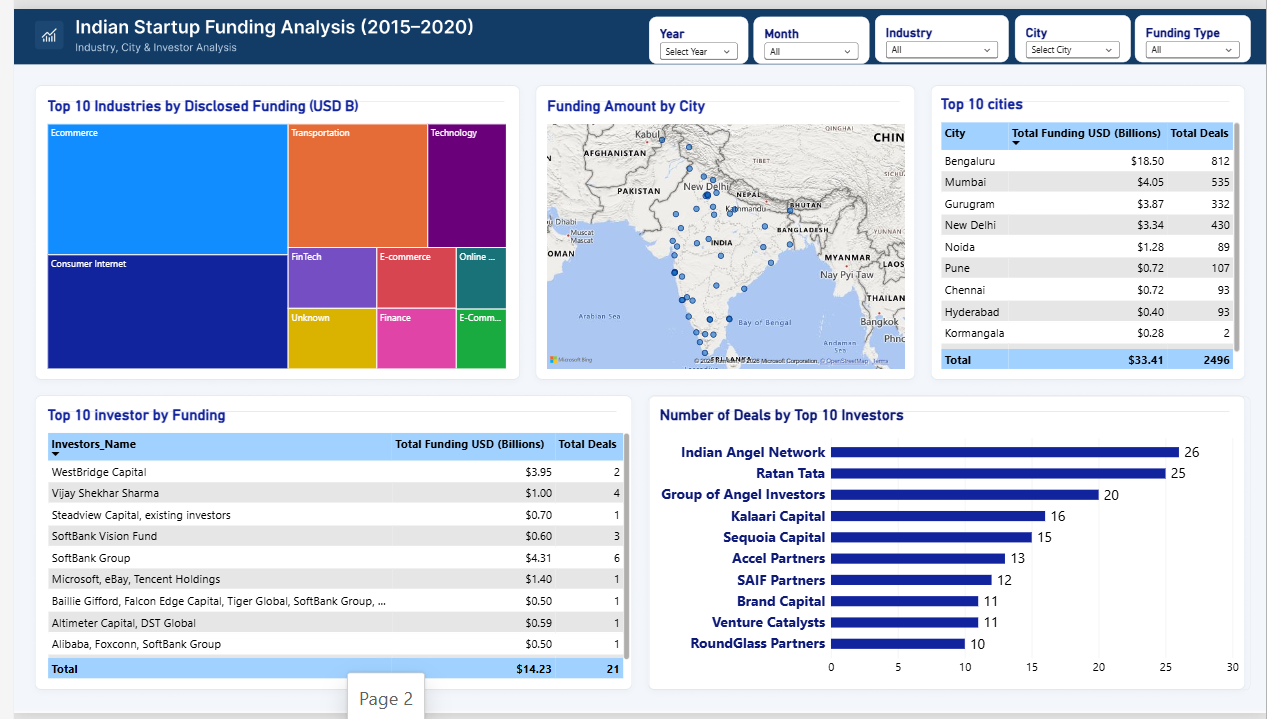

Layout of this report page (visuals, bound fields, positions):
{"tool":"powerbi","page":{"name":"Page 2","canvas":[1920,1080],"ordinal":1},"visuals":[{"type":"listSlicer","fields":{"Values":["Calendar.Month"]},"box":[1132.5,11.1,177.5,72.5],"z":0},{"type":"listSlicer","title":"Industry","fields":{"Values":["cleaned_dataset.Industry"]},"box":[1320,8.6,205,72.5],"z":1000},{"type":"listSlicer","title":"Funding Type","fields":{"Values":["cleaned_dataset.Investment_Type_Clean"]},"box":[1717.5,8.6,177.5,72.5],"z":2000},{"type":"listSlicer","fields":{"Values":["Calendar.Year"]},"box":[972.5,11.1,152.5,72.5],"z":3000},{"type":"listSlicer","title":"City","fields":{"Values":["cleaned_dataset.City"]},"box":[1535,8.6,177.5,72.5],"z":4000},{"type":"treemap","title":"Top 10 Industries by Disclosed Funding (USD B)","fields":{"Group":["cleaned_dataset.Industry"],"Values":["Calendar.Total Funding USD"]},"box":[35,120,735,447.5],"z":5000},{"type":"map","title":"Funding Amount by City","fields":{"Category":["cleaned_dataset.City"]},"box":[800,120,580,447.5],"z":6000},{"type":"tableEx","title":"Top 10 investor by Funding","fields":{"Values":["cleaned_dataset.Investors_Name","Calendar.Total Funding USD","Calendar.Total Deals"]},"box":[35.3,593.8,923.7,447.7],"z":7000},{"type":"tableEx","title":"Top 10 cities","fields":{"Values":["cleaned_dataset.City","Calendar.Total Funding USD","Calendar.Total Deals"]},"box":[1405,117.5,490,450],"z":8000},{"type":"barChart","title":"Number of Deals by Top 10 Investors","fields":{"Category":["cleaned_dataset.Investors_Name"],"Y":["Calendar.Total Deals"]},"box":[973.2,593.8,921.3,450.1],"z":9000}]}

Visuals, with their boxes on the page's 1920x1080 design canvas (x1, y1, x2, y2). These are canvas units, not pixel positions in the 1268x719 screenshot, which may show the page scaled, cropped or inside an application window:
listSlicer - Calendar.Month: (1132,11,1310,84)
"Industry" listSlicer: (1320,9,1525,81)
"Funding Type" listSlicer: (1718,9,1895,81)
listSlicer - Calendar.Year: (972,11,1125,84)
"City" listSlicer: (1535,9,1712,81)
"Top 10 Industries by Disclosed Funding (USD B)" treemap: (35,120,770,568)
"Funding Amount by City" map: (800,120,1380,568)
"Top 10 investor by Funding" tableEx: (35,594,959,1042)
"Top 10 cities" tableEx: (1405,118,1895,568)
"Number of Deals by Top 10 Investors" barChart: (973,594,1894,1044)
